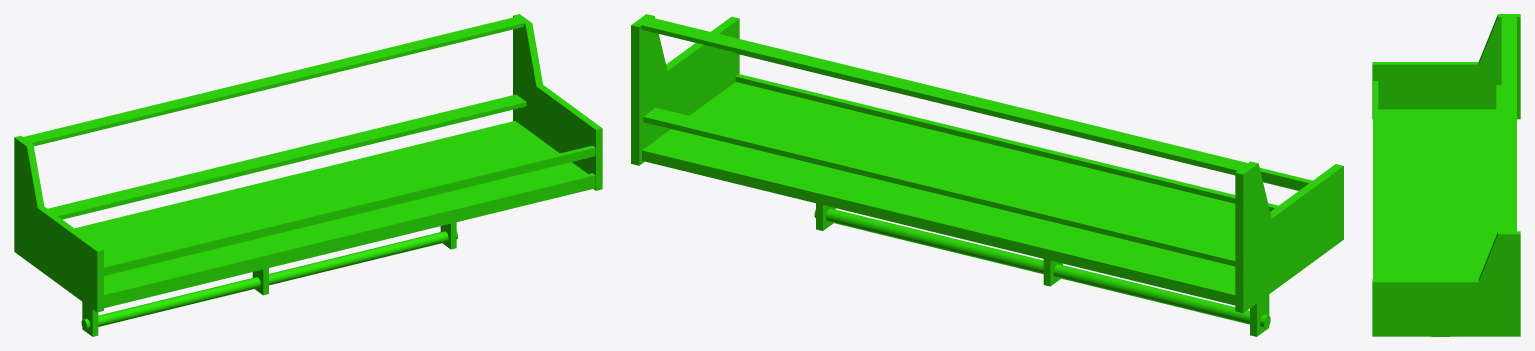
The model's file is Kitchen_Shelf_04_Lod0.fbx.
3 views of the same model, side by side, from view 1: azimuth 30°, elevation 25°; view 2: azimuth 150°, elevation 25°; view 3: azimuth 270°, elevation 25° (orthographic). The views are drawn at different scales.
Parts seen in each view (by area): view 1: Kitchen_Shelf_04_Lod0; view 2: Kitchen_Shelf_04_Lod0; view 3: Kitchen_Shelf_04_Lod0.
Boxes of the visible parts, box(x1,y1,x2,y2) form: Kitchen_Shelf_04_Lod0: box(14, 14, 602, 336); Kitchen_Shelf_04_Lod0: box(631, 14, 1343, 336); Kitchen_Shelf_04_Lod0: box(1372, 14, 1520, 336).
Size of the model in its own units: 99.54 by 32.02 by 28.3.
